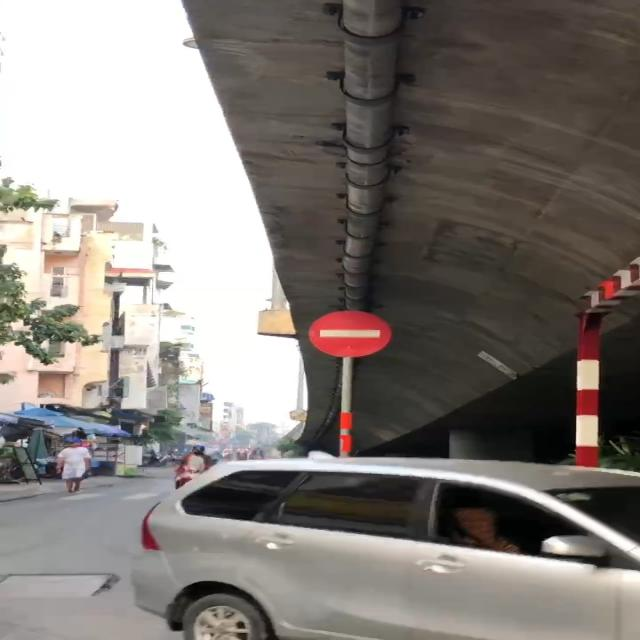Bien bao cam di nguoc chieu: (305, 308, 398, 362)
